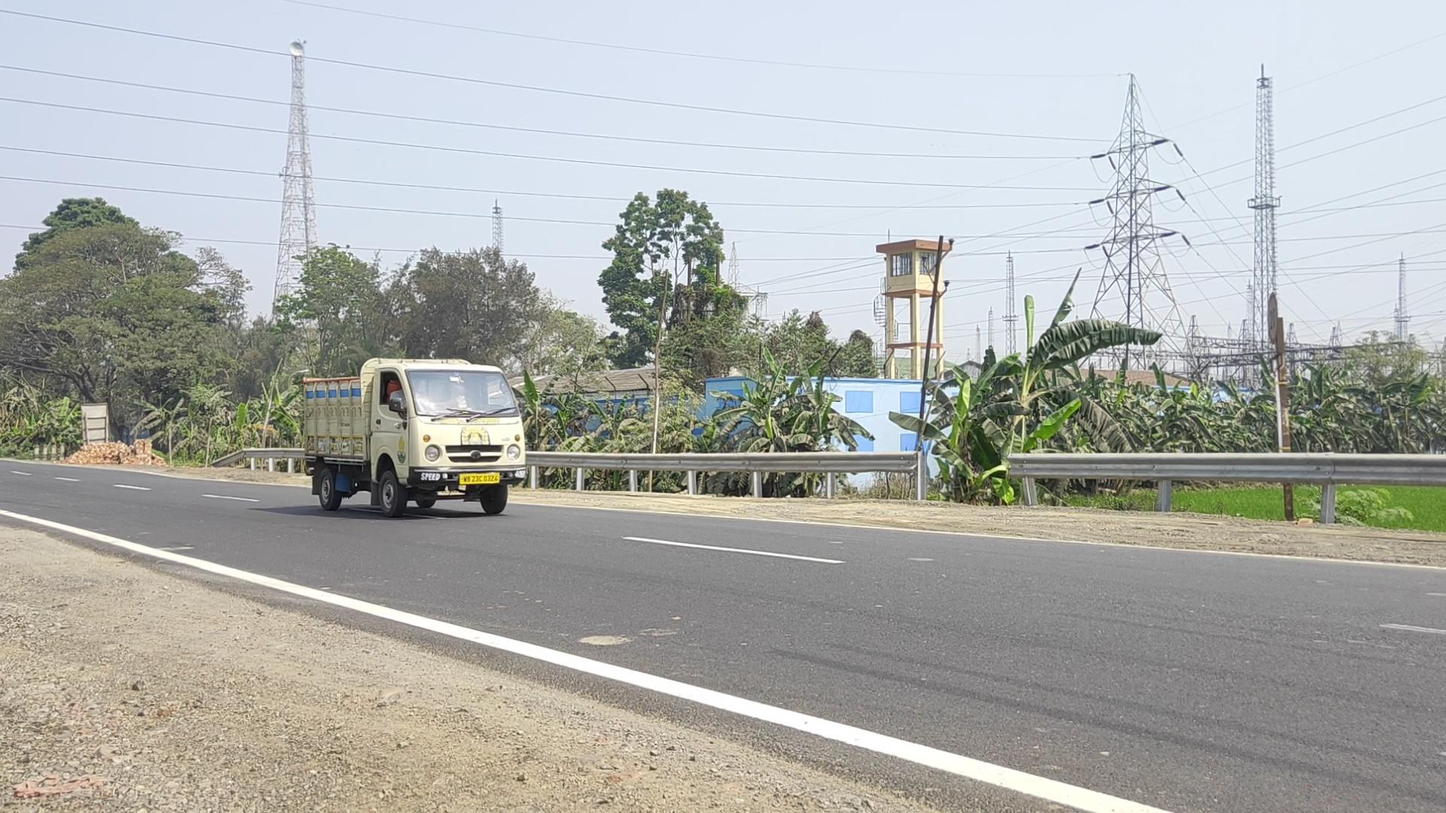van: (303, 358, 526, 519)
